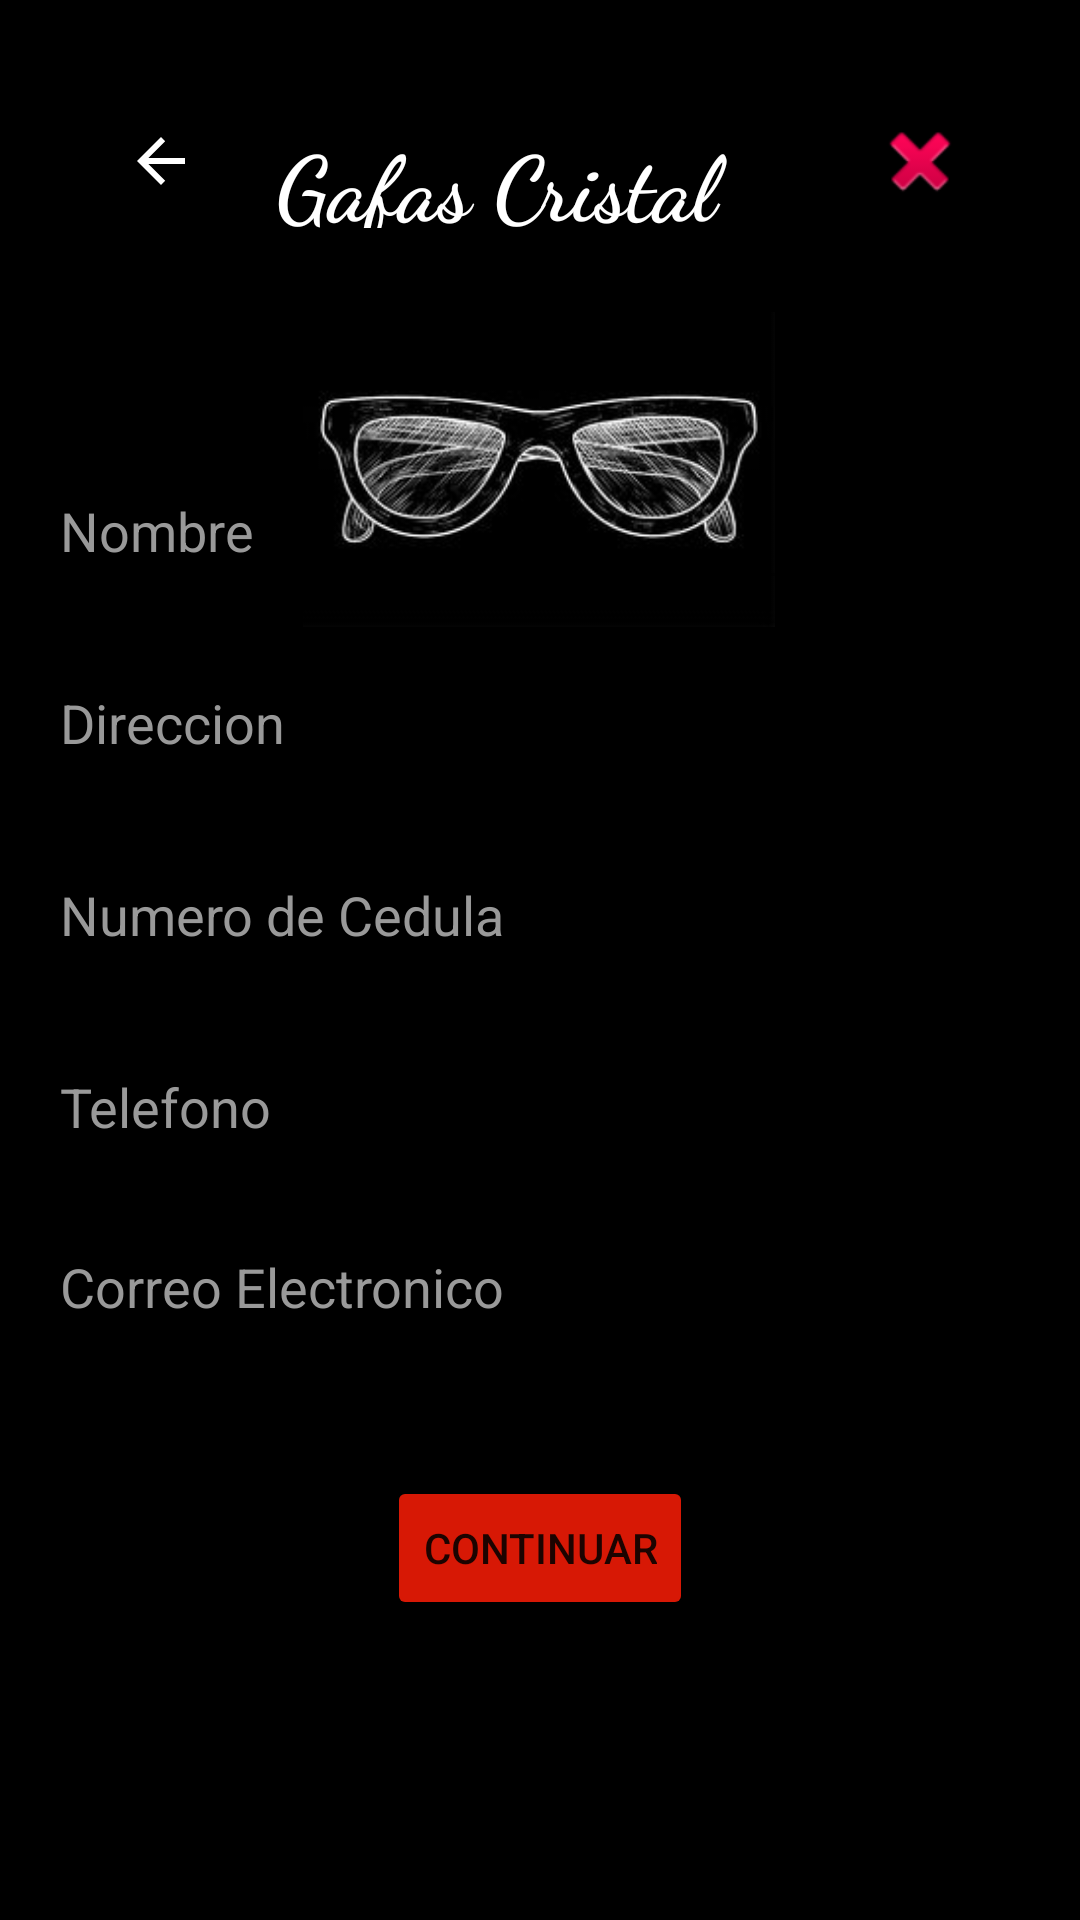

Where to tap for icons on this 1080×1920 app screen, as point (x, y):
delete: point (920, 161)
